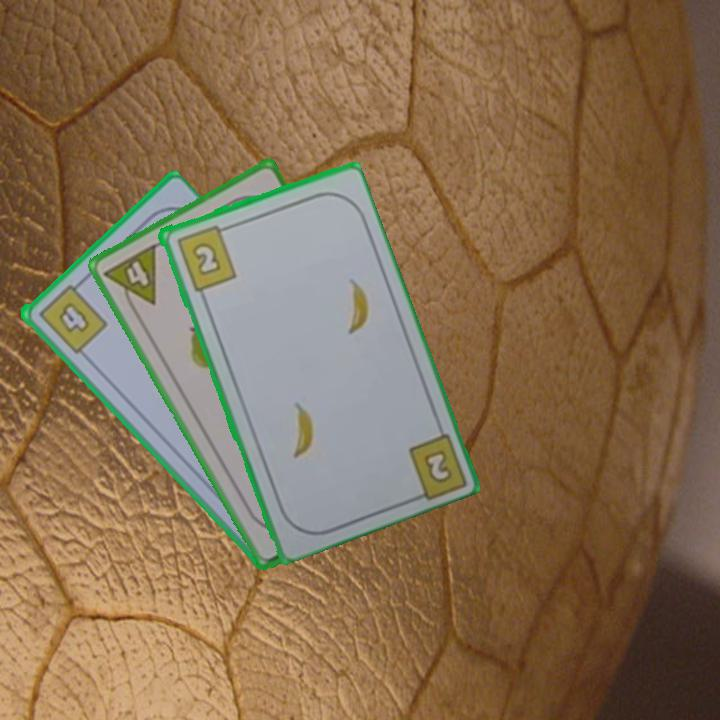2b: (172, 221, 239, 294), (423, 449, 452, 483)
4b: (34, 276, 110, 357)
4p: (100, 240, 159, 318)
